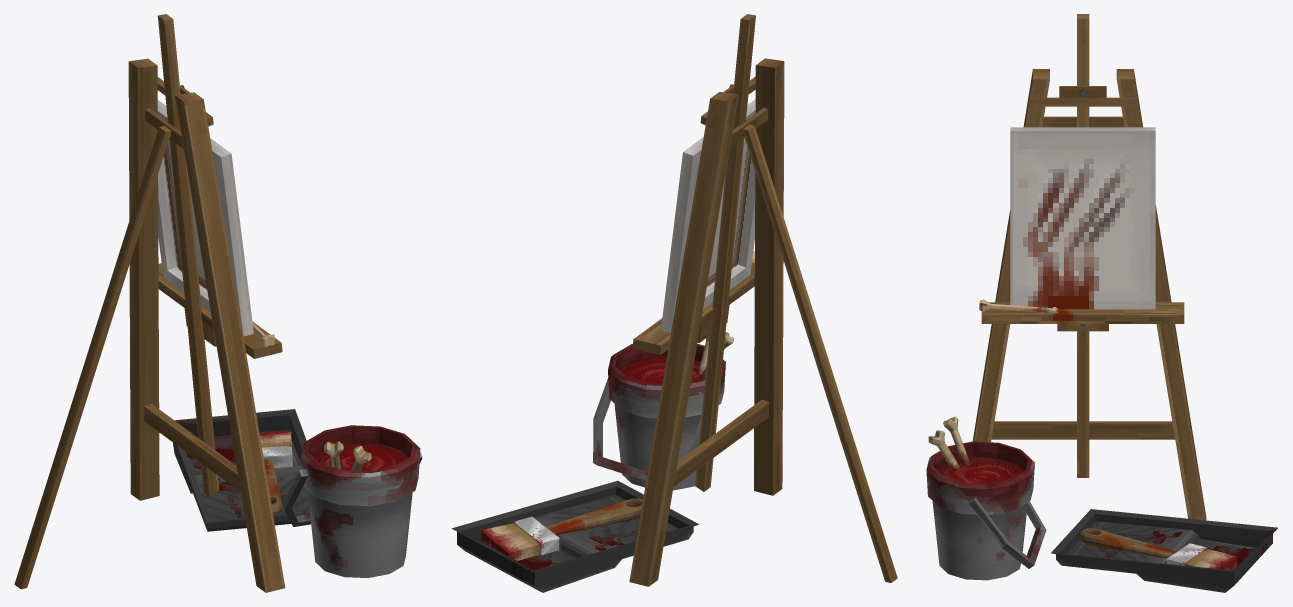
File: low_poly_horror_art_studio.glb
3 views of the same model, side by side, from view 1: azimuth 30°, elevation 25°; view 2: azimuth 150°, elevation 25°; view 3: azimuth 270°, elevation 25° (orthographic). The views are drawn at different scales.
Visible parts, largest first — view 1: Object_3, Object_5, Object_4; view 2: Object_3, Object_4, Object_5; view 3: Object_3, Object_5, Object_4, Object_6.
Part boxes in pixels (x1,y1,x2,y2): Object_3: (14, 14, 285, 592); Object_5: (282, 425, 422, 577); Object_4: (173, 409, 309, 531); Object_3: (629, 14, 897, 586); Object_4: (451, 480, 699, 592); Object_5: (593, 332, 733, 490); Object_3: (972, 14, 1206, 520); Object_5: (926, 416, 1046, 580); Object_4: (1051, 509, 1277, 592); Object_6: (979, 299, 1061, 314).
Size of the model in its own units: 1.2 by 1.69 by 1.11.
3 materials, 3 textured.
